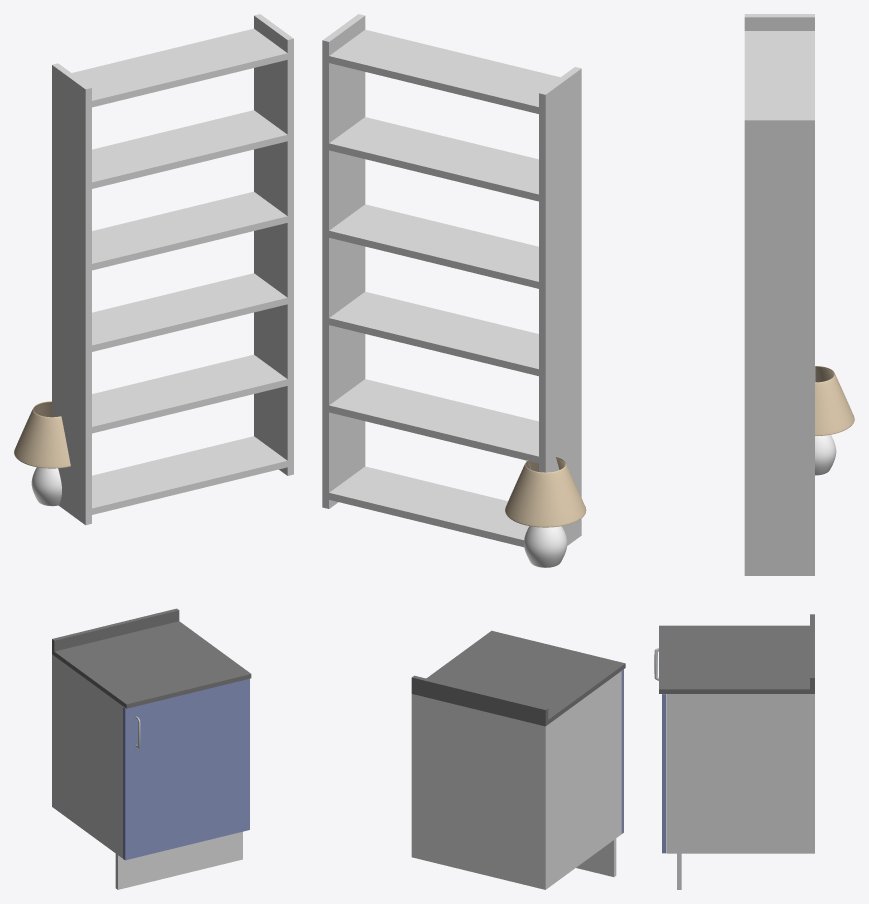
The model's file is items.fbx.
3 renders of one model, left to right at view 1: azimuth 30°, elevation 25°; view 2: azimuth 150°, elevation 25°; view 3: azimuth 270°, elevation 25°, orthographic. The views are drawn at different scales.
Visible parts, largest first — view 1: Shelves1, Countertop1, Lamp_base; view 2: Shelves1, Countertop1, Lamp_base; view 3: Shelves1, Countertop1, Lamp_base.
Part boxes in pixels (left/top/right/bottom): Shelves1: left=52, top=14, right=293, bottom=525; Countertop1: left=52, top=608, right=251, bottom=889; Lamp_base: left=14, top=401, right=70, bottom=506; Shelves1: left=322, top=14, right=581, bottom=547; Countertop1: left=411, top=630, right=625, bottom=889; Lamp_base: left=505, top=457, right=586, bottom=567; Shelves1: left=744, top=14, right=814, bottom=575; Countertop1: left=654, top=614, right=814, bottom=889; Lamp_base: left=815, top=366, right=854, bottom=475.
Bounding box in the file's own units: 0.7964 × 1.16 × 3.56.
